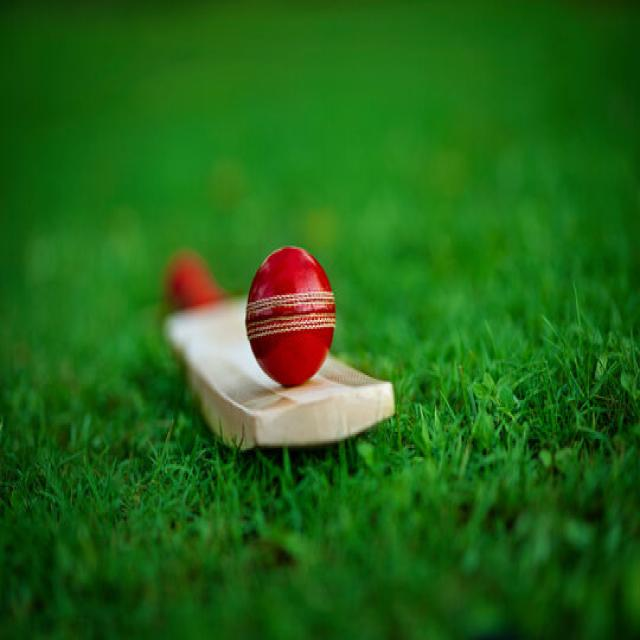ball: (244, 242, 337, 391)
